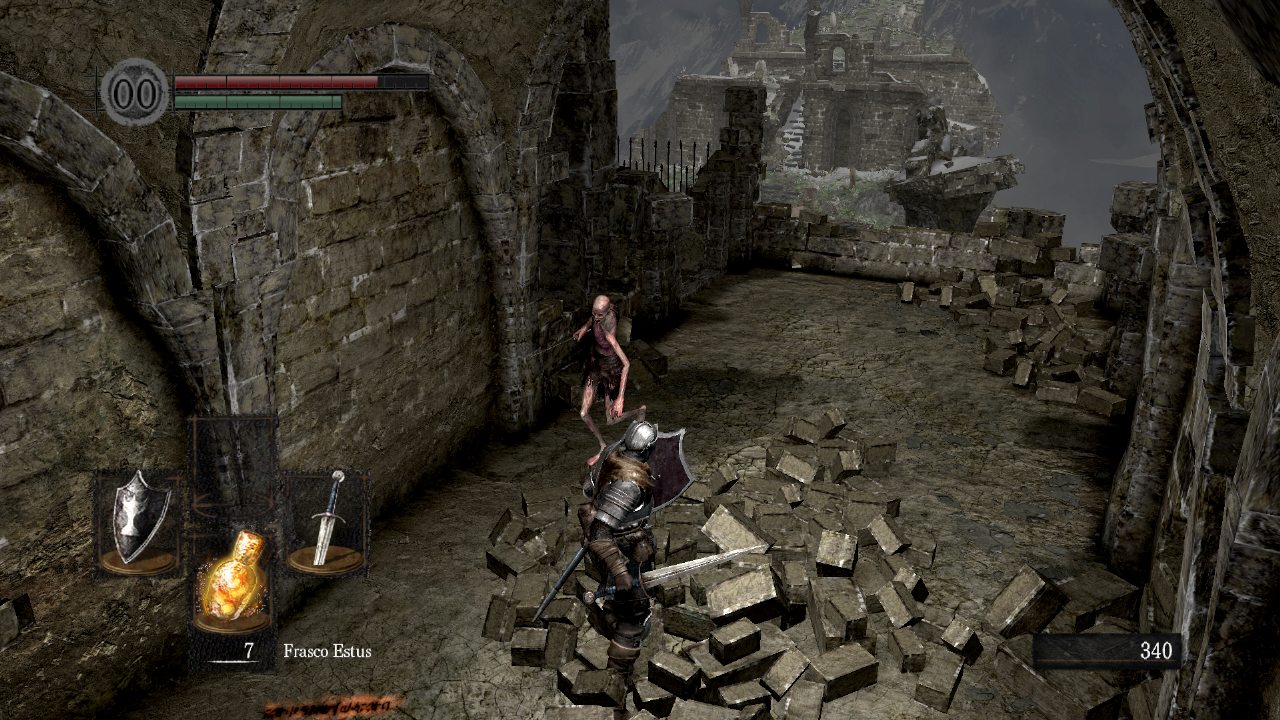hollow: (532, 294, 647, 466)
player: (531, 419, 767, 688)
